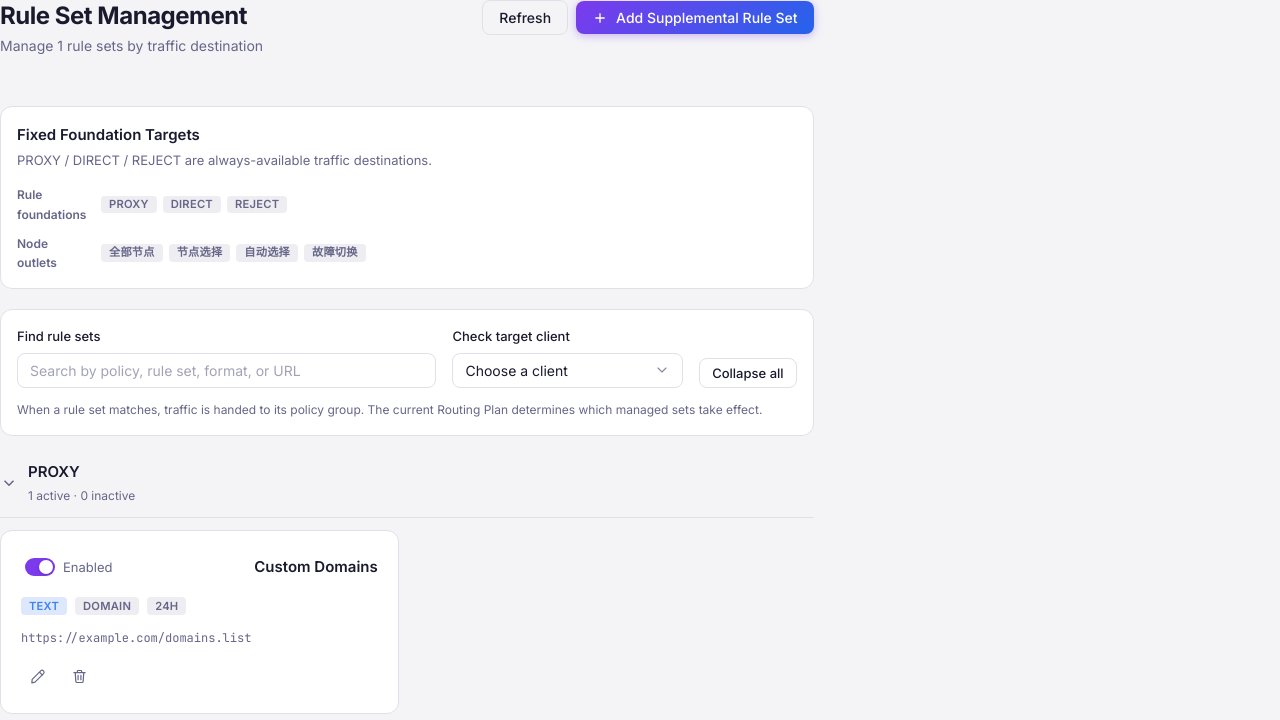
Test: RemoteRuleSets content validation › stores a target-native source override for an incompatible client
Step 1. Click the button named "Edit" → coordinates (37, 677), box [21,661,53,693]
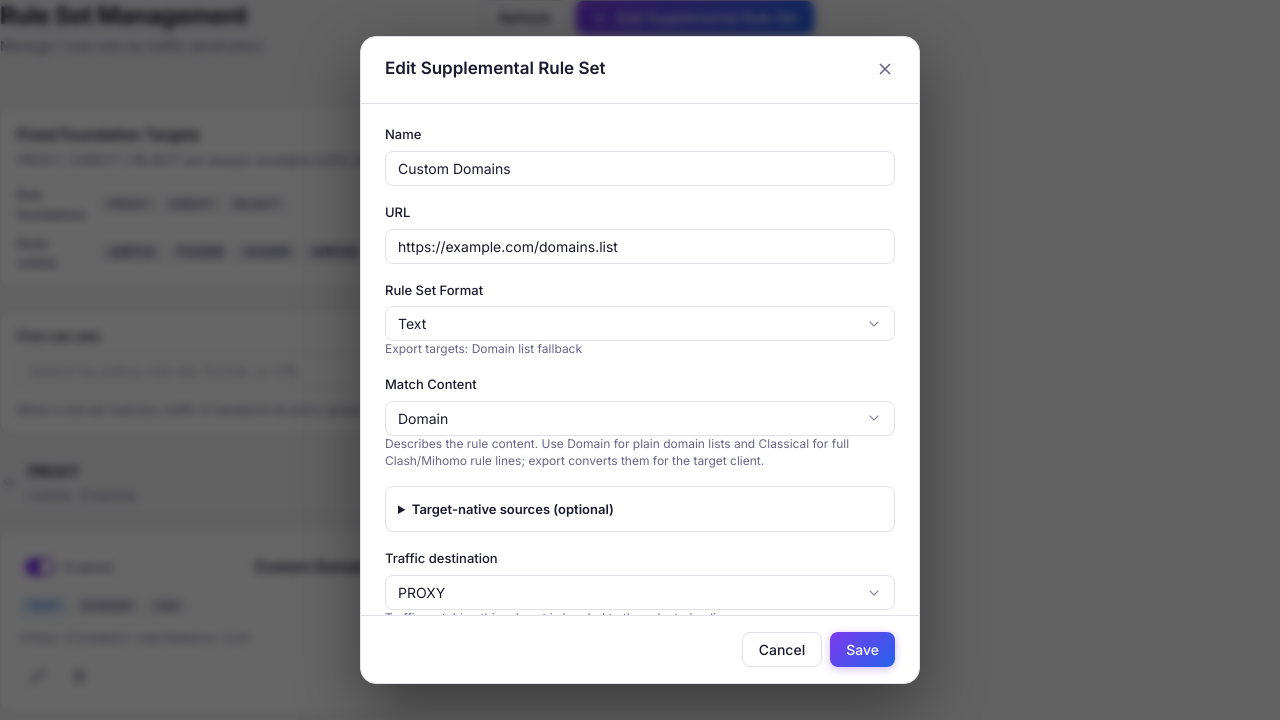
Step 2. Click the heading "Target-native sources (optional)" → coordinates (513, 509), box [412,501,614,517]
(page scrolled)
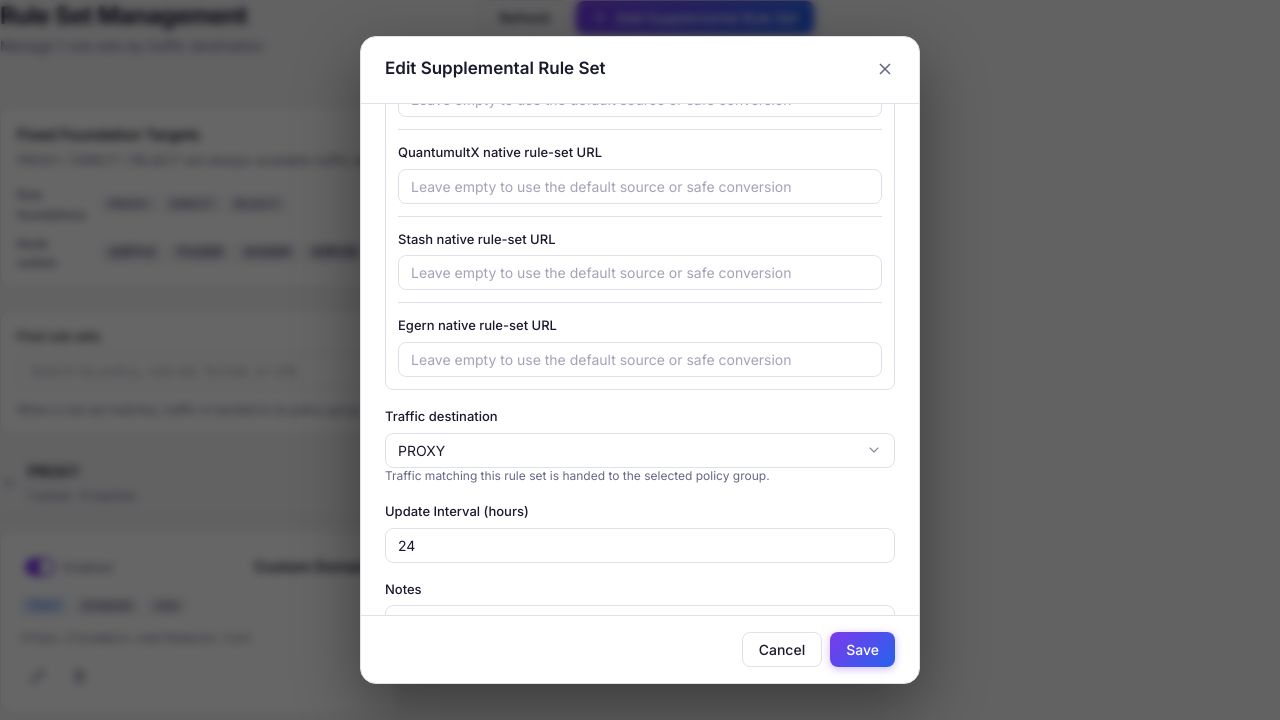
Step 3. Type "https://rules.example.com/native-egern.yaml" into the field labelled "Egern native rule-set URL" → coordinates (640, 360), box [398,342,882,377]
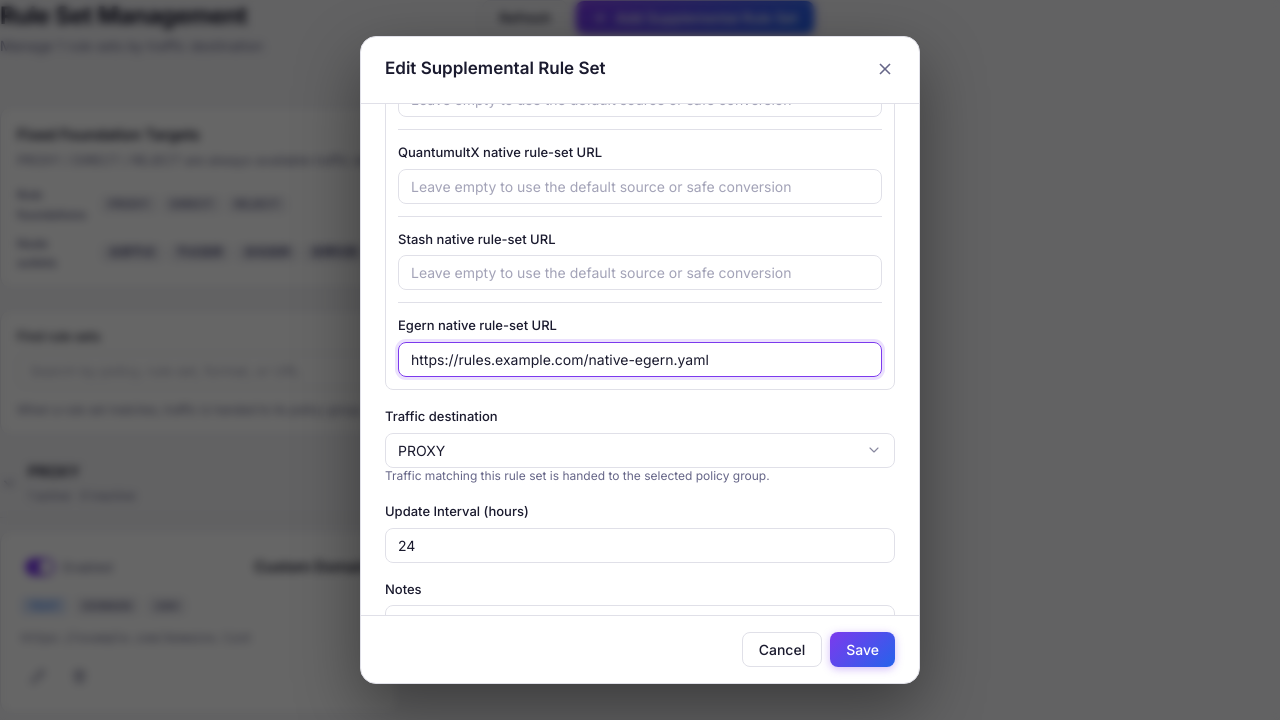
Step 4. Click the button "Save" → coordinates (863, 650), box [830,632,895,667]
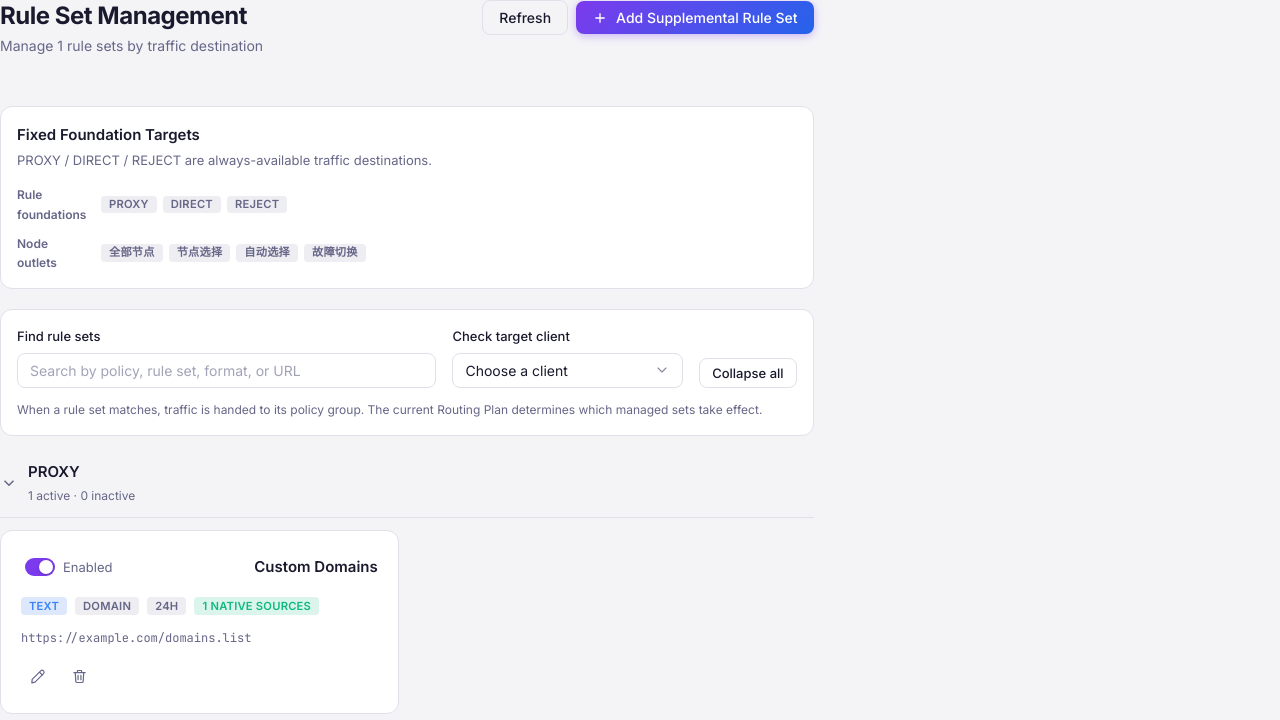
expect the text "1 native sources" is shown: met, box [194,597,319,615]
